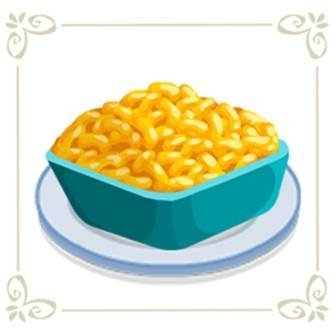macncheese: (51, 69, 279, 194)
